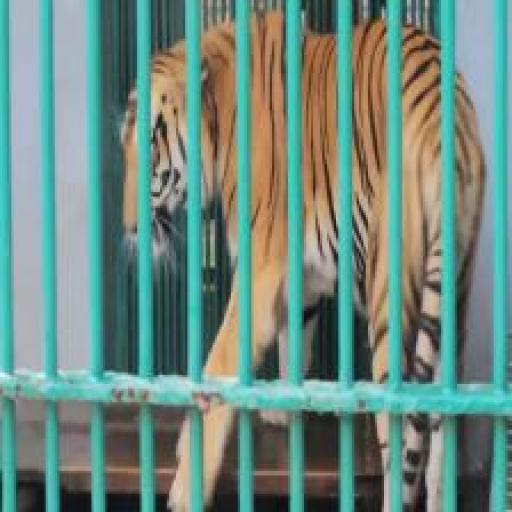Tiger: (73, 2, 495, 512)
